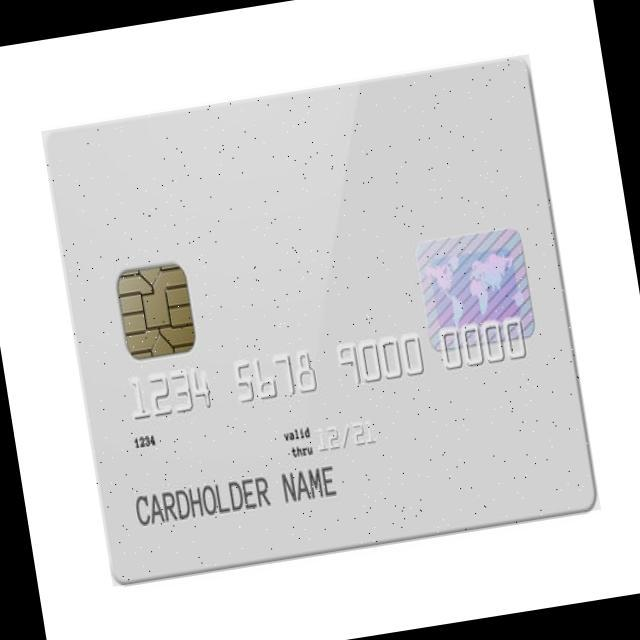payment_card: (39, 52, 599, 584)
